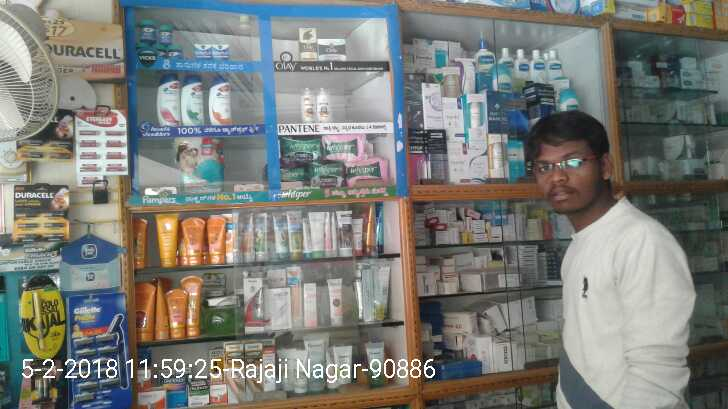beauty: (207, 75, 237, 127), (179, 74, 205, 131), (153, 75, 179, 123), (294, 21, 319, 62), (314, 36, 348, 65), (313, 84, 334, 124), (296, 85, 313, 124)
pharmacy: (177, 131, 224, 186), (306, 160, 351, 194), (344, 150, 387, 184), (281, 130, 319, 163), (319, 133, 362, 155), (153, 13, 179, 47), (137, 16, 158, 43), (188, 35, 210, 58), (213, 40, 226, 56)
